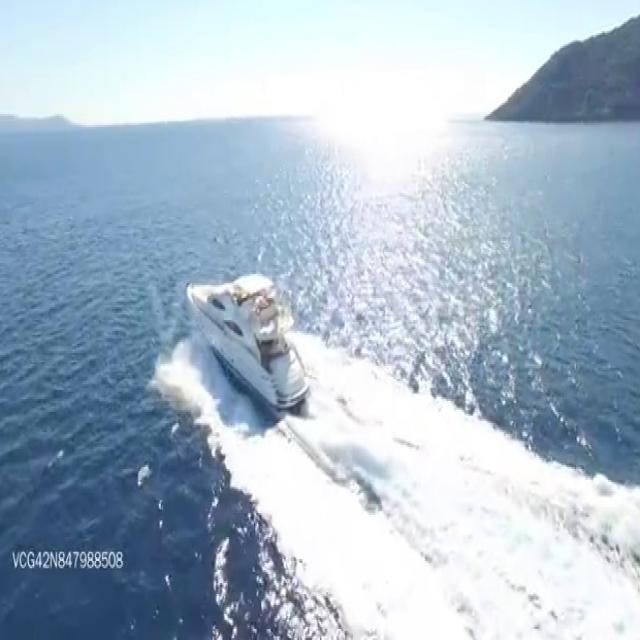houseboat: (183, 270, 309, 414)
